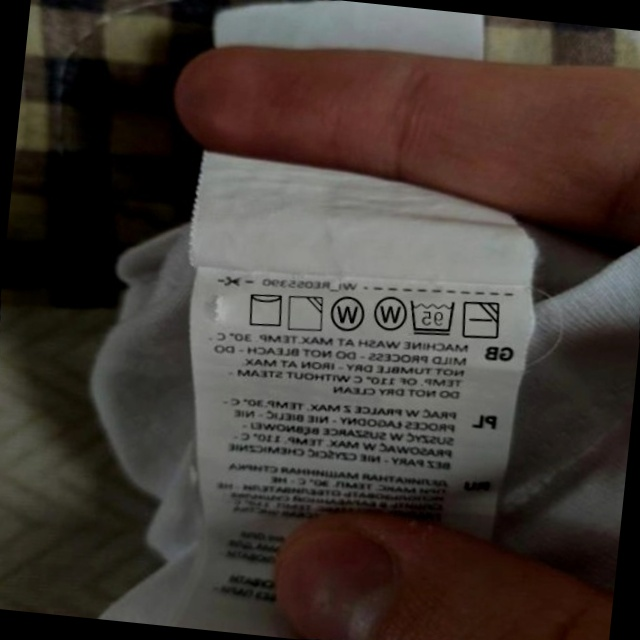95C: (405, 294, 459, 340)
dry_flat_in_shade: (459, 295, 505, 344)
line_dry: (242, 287, 288, 331)
shade_dry: (283, 290, 327, 336)
wet_clean: (368, 289, 410, 335), (326, 292, 368, 337)
